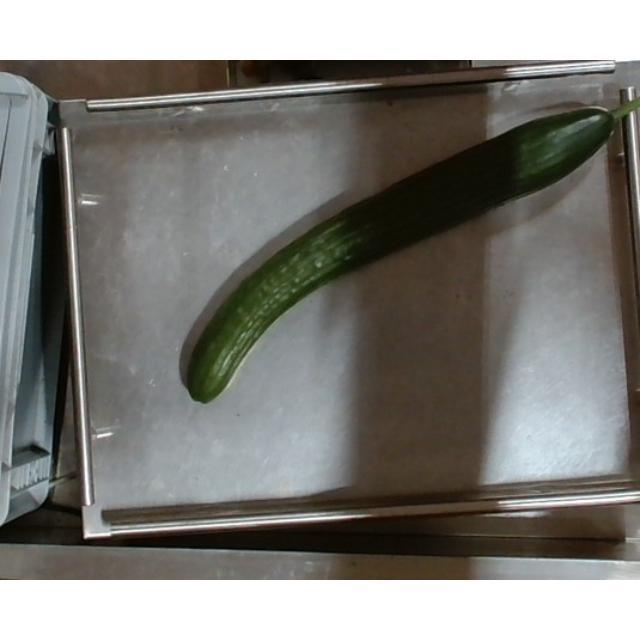cucumber: (186, 95, 628, 407)
